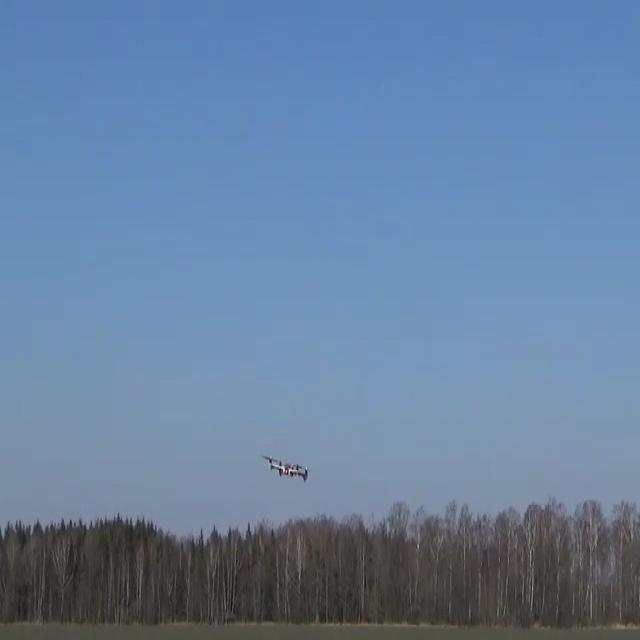drone: (261, 452, 308, 482)
